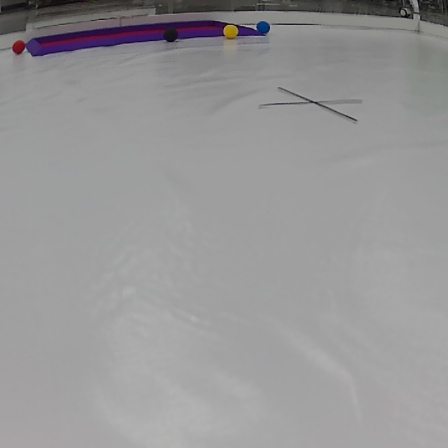black: (160, 28, 180, 45)
blue: (256, 21, 269, 34)
red: (9, 37, 26, 57)
red_aim: (19, 21, 274, 64)
yellow: (222, 23, 242, 39)
